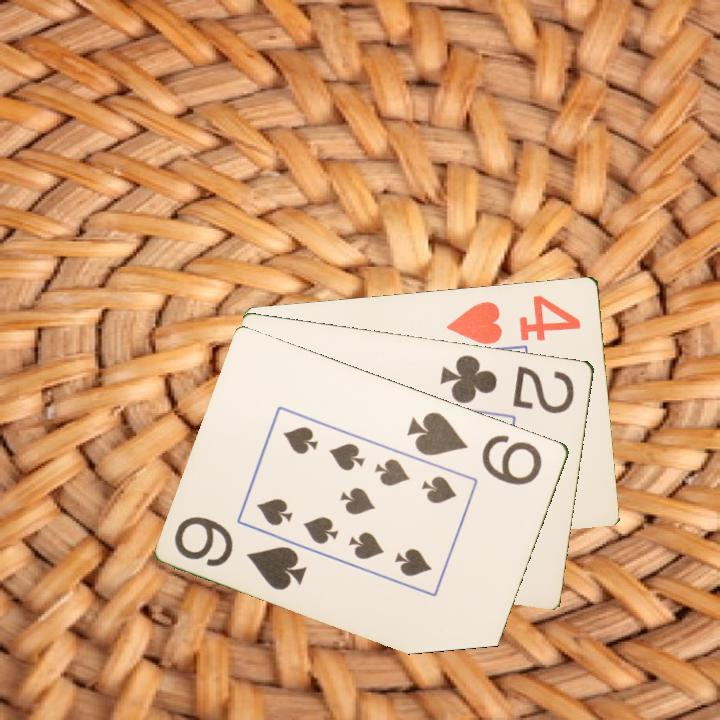2c: (437, 350, 578, 417)
4h: (443, 291, 584, 347)
9s: (403, 407, 546, 488), (171, 512, 310, 593)
